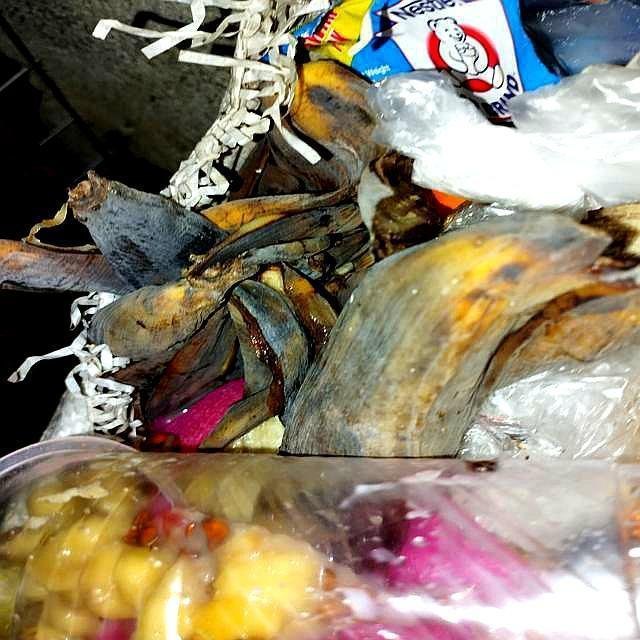Biodegradable: (77, 170, 640, 463)
